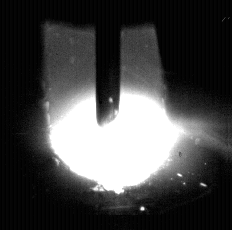arame: (96, 0, 121, 126)
poca: (48, 0, 187, 230)
